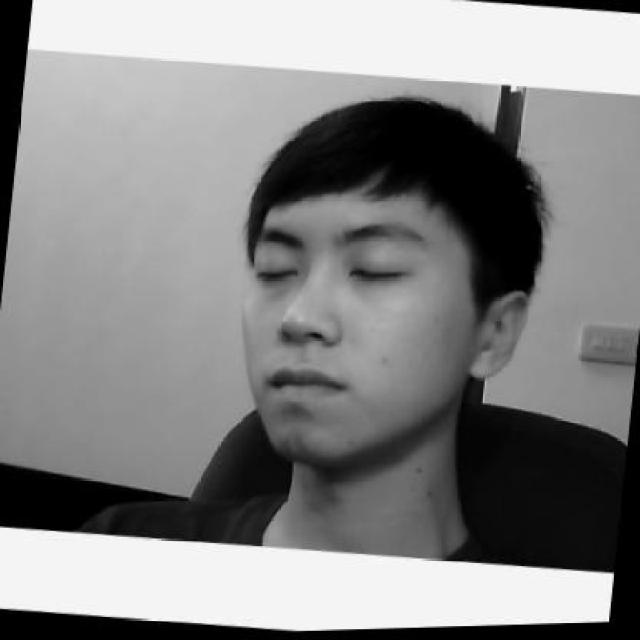inattentif: (224, 78, 547, 484)
